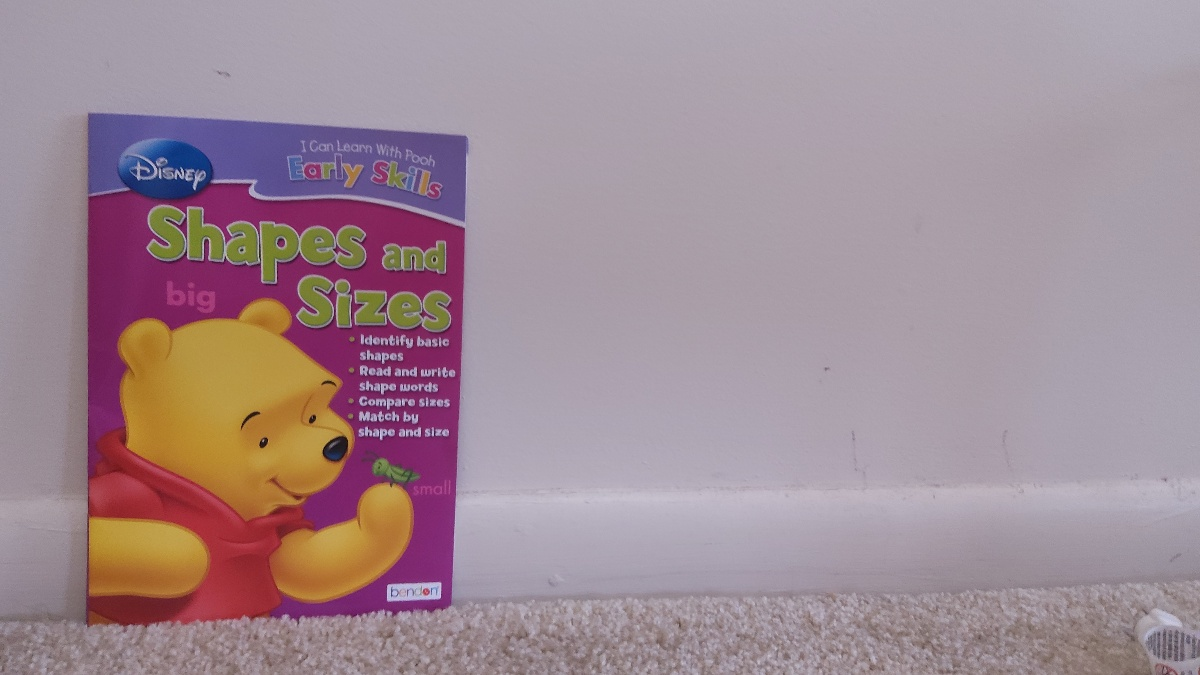book: (90, 115, 453, 611)
